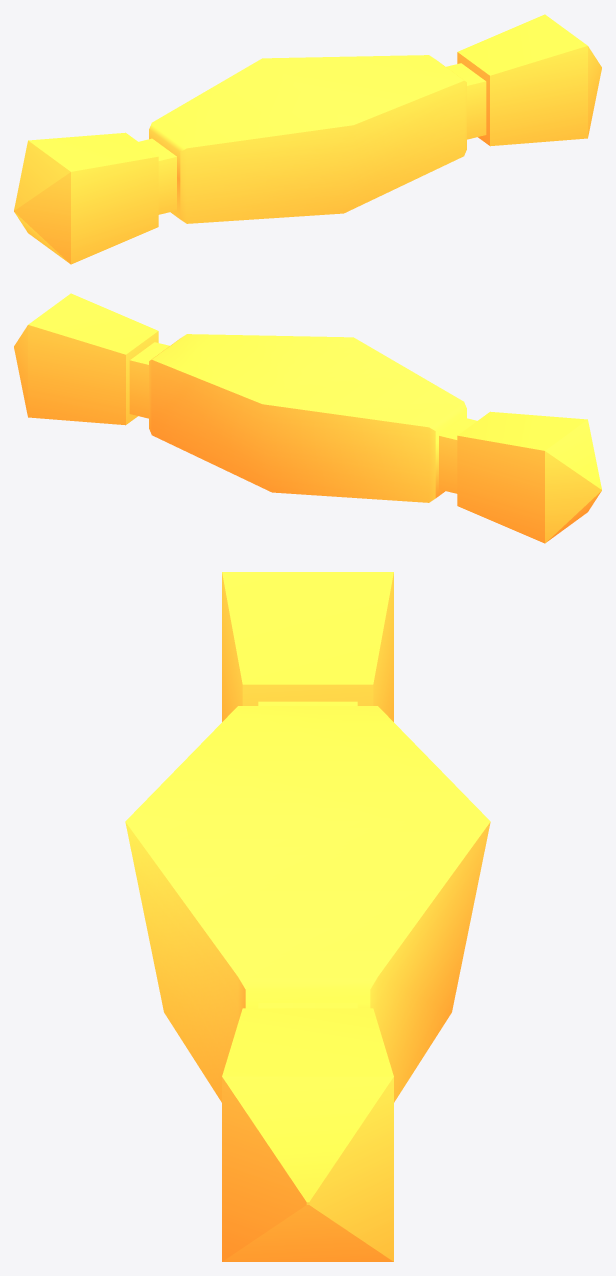
File: gold_guard_013.glb
3 views of the same model, one above another, from view 1: azimuth 30°, elevation 25°; view 2: azimuth 150°, elevation 25°; view 3: azimuth 270°, elevation 25° (orthographic). The views are drawn at different scales.
Visible parts, largest first — view 1: gold_guard_013; view 2: gold_guard_013; view 3: gold_guard_013.
Boxes of the visible parts, x1,y1,x2,y2 form: gold_guard_013: (14, 14, 601, 264); gold_guard_013: (14, 293, 601, 543); gold_guard_013: (125, 572, 490, 1261).
Bounding box in the file's own units: 9.16 × 1.42 × 2.47.
1 material, 1 textured.
